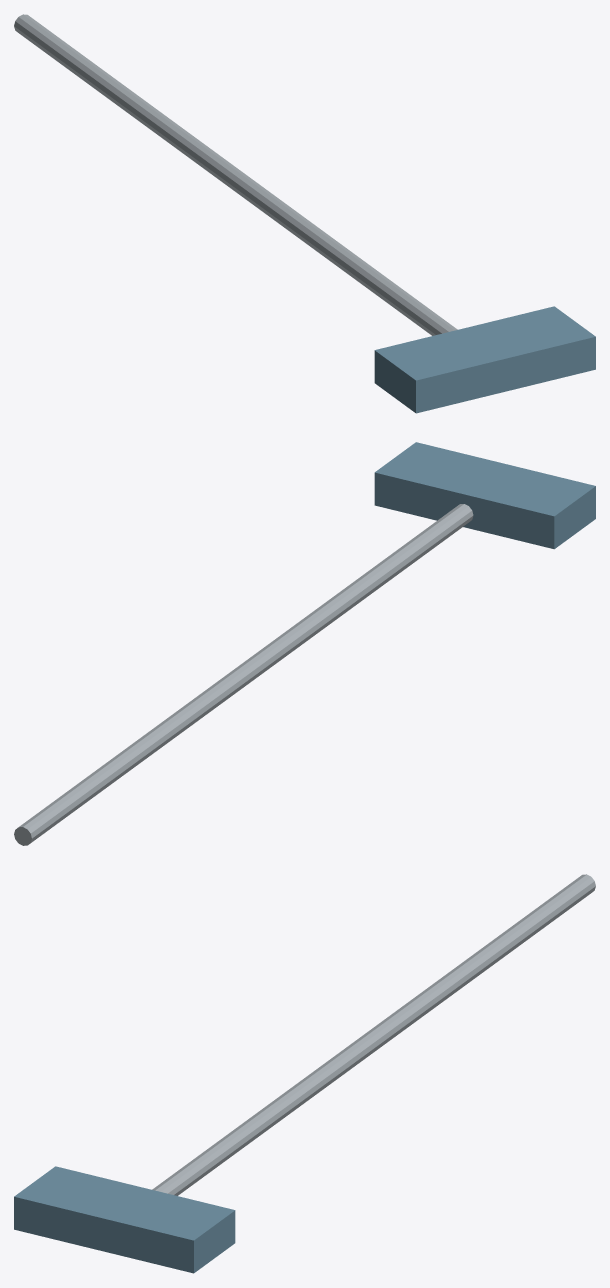
The model's file is long-haul-trucking-and-truck-stop-truck-wash-brush-33954760__14021.glb.
The picture shows the model from 3 angles, top to bottom: view 1: azimuth 30°, elevation 25°; view 2: azimuth 150°, elevation 25°; view 3: azimuth 330°, elevation 25°; orthographic projection.
Parts seen in each view (by area): view 1: truck-wash-brush; view 2: truck-wash-brush; view 3: truck-wash-brush.
Boxes of the visible parts, <box> form: truck-wash-brush: <box>14,14,595,413</box>; truck-wash-brush: <box>14,442,595,845</box>; truck-wash-brush: <box>14,874,595,1273</box>.
Size of the model in its own units: 0.4 by 0.07 by 1.86.
